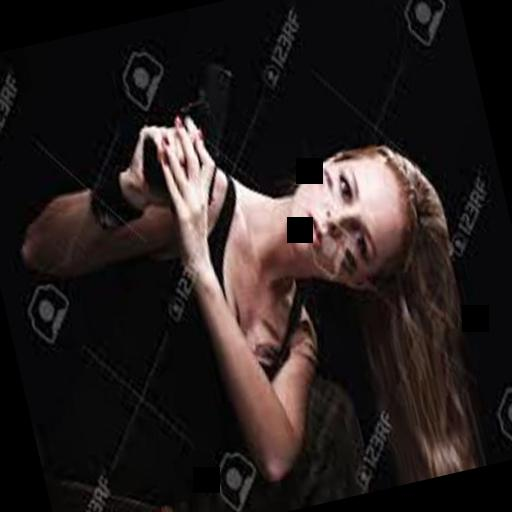Handgun: (114, 55, 257, 224)
